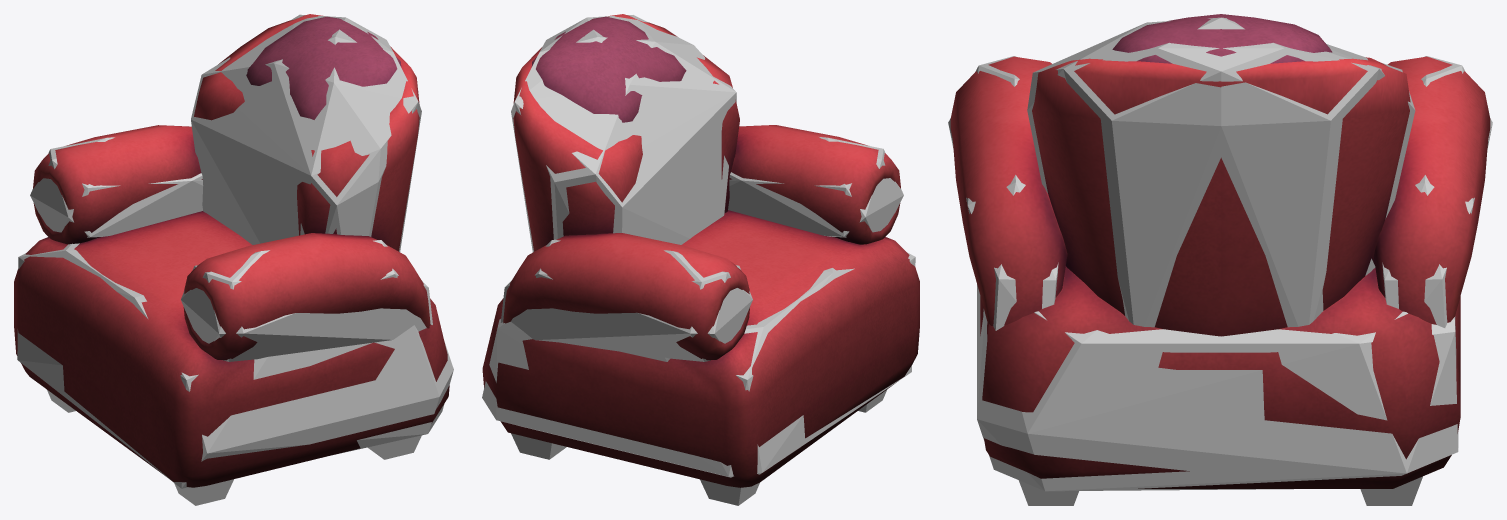
File: SM_ArmChair01.fbx
3 renders of one model, left to right at view 1: azimuth 30°, elevation 25°; view 2: azimuth 150°, elevation 25°; view 3: azimuth 270°, elevation 25°, orthographic. The views are drawn at different scales.
Parts seen in each view (by area): view 1: SM_ArmChair01, SM_ArmChair01_ConvexHulls; view 2: SM_ArmChair01, SM_ArmChair01_ConvexHulls; view 3: SM_ArmChair01, SM_ArmChair01_ConvexHulls.
Part boxes in pixels (left/top/right/bottom): SM_ArmChair01: left=14, top=14, right=449, bottom=487; SM_ArmChair01_ConvexHulls: left=17, top=14, right=453, bottom=505; SM_ArmChair01: left=482, top=14, right=919, bottom=487; SM_ArmChair01_ConvexHulls: left=482, top=15, right=915, bottom=505; SM_ArmChair01: left=950, top=14, right=1490, bottom=488; SM_ArmChair01_ConvexHulls: left=948, top=17, right=1492, bottom=505.
Size of the model in its own units: 98.26 by 118 by 116.
Materials: 2 (1 with a texture image).
